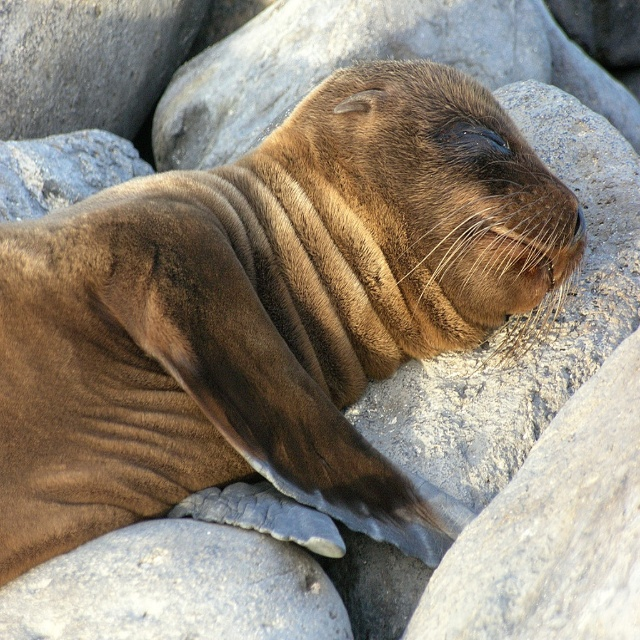Harbor seal: (0, 50, 596, 592)
